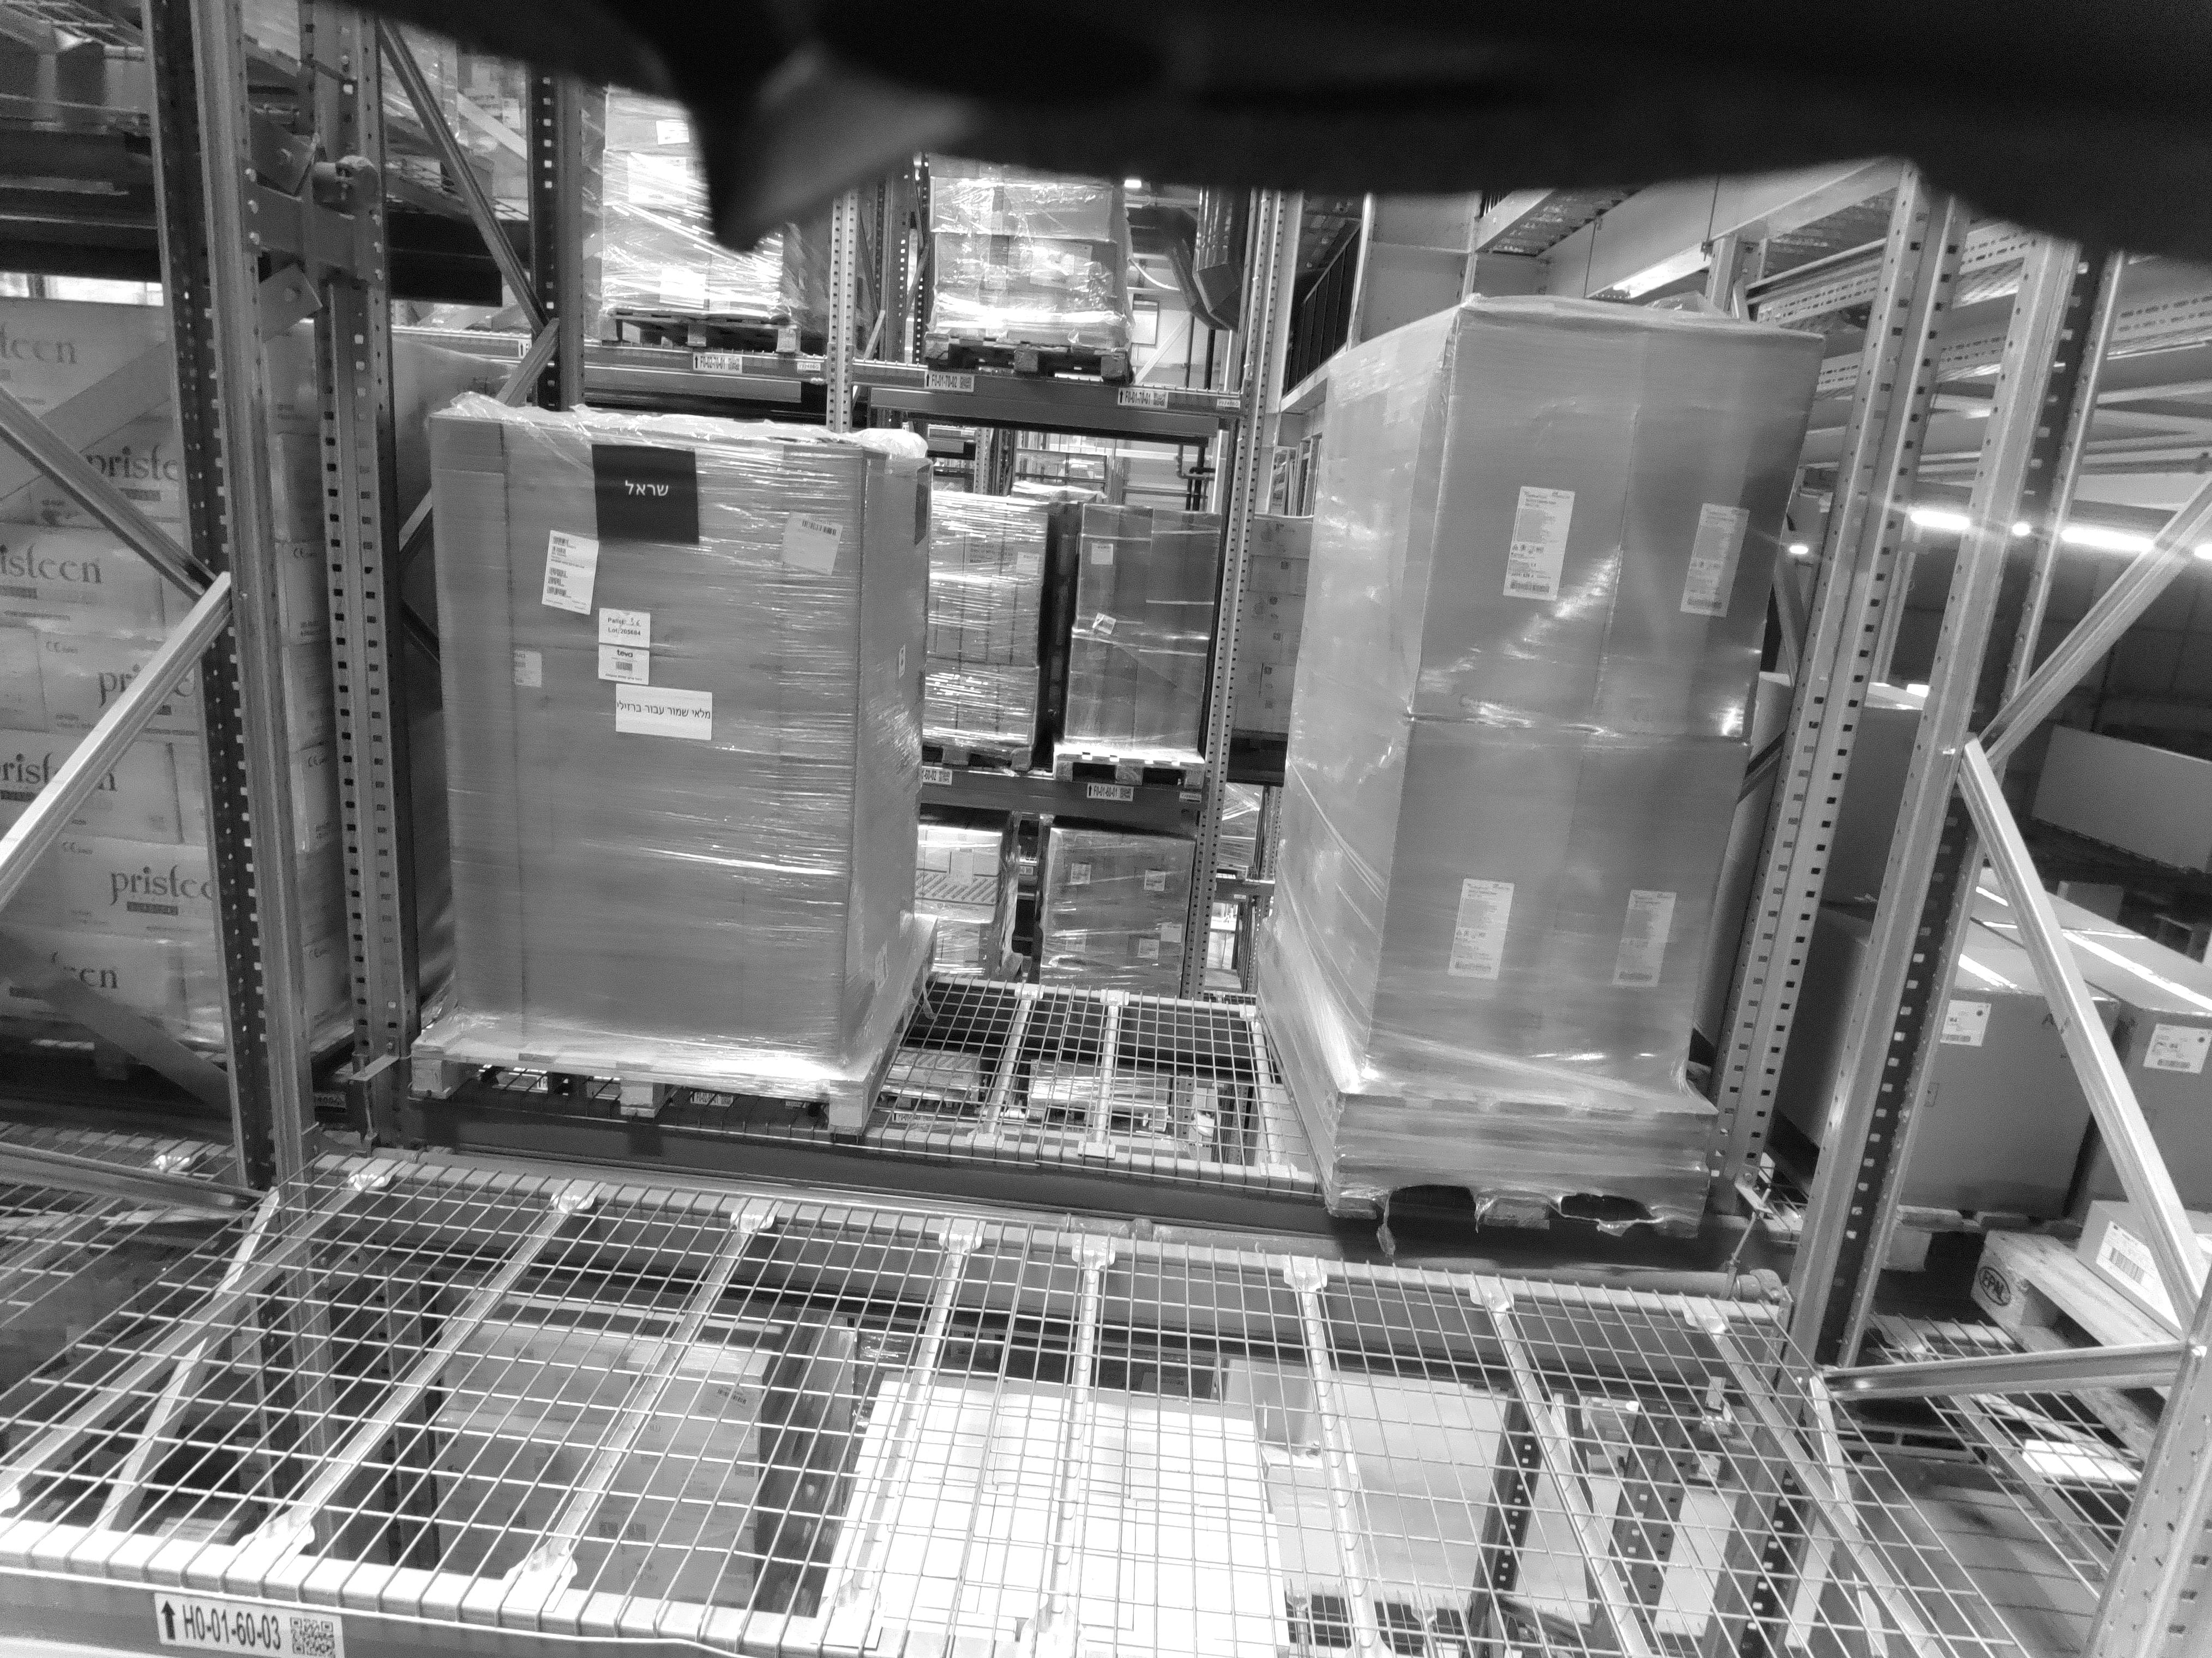empty-shelf: (857, 286, 1252, 1581), (343, 71, 698, 1459), (1418, 226, 1726, 1601)
